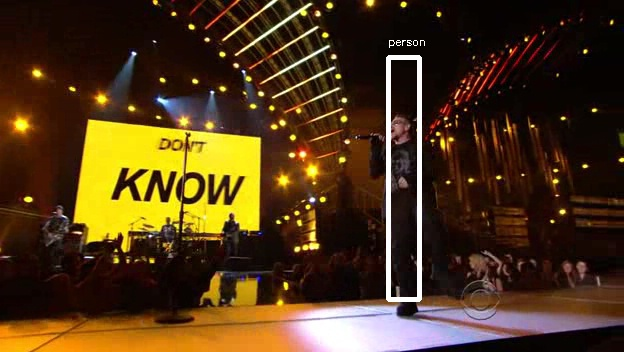person: (369, 113, 436, 223), (366, 113, 433, 223), (372, 113, 439, 223), (369, 110, 436, 220), (369, 116, 436, 226)
target_negative: (124, 254, 337, 347), (557, 131, 603, 328), (315, 158, 332, 334), (179, 335, 345, 338), (405, 330, 476, 337), (9, 294, 25, 319)
